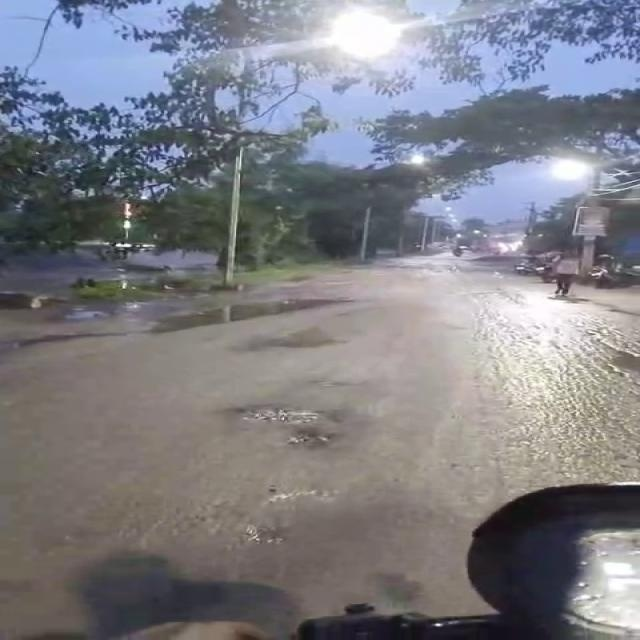pothole: (153, 298, 345, 326), (223, 403, 352, 425), (248, 331, 339, 352), (283, 429, 337, 452), (303, 376, 360, 390)
